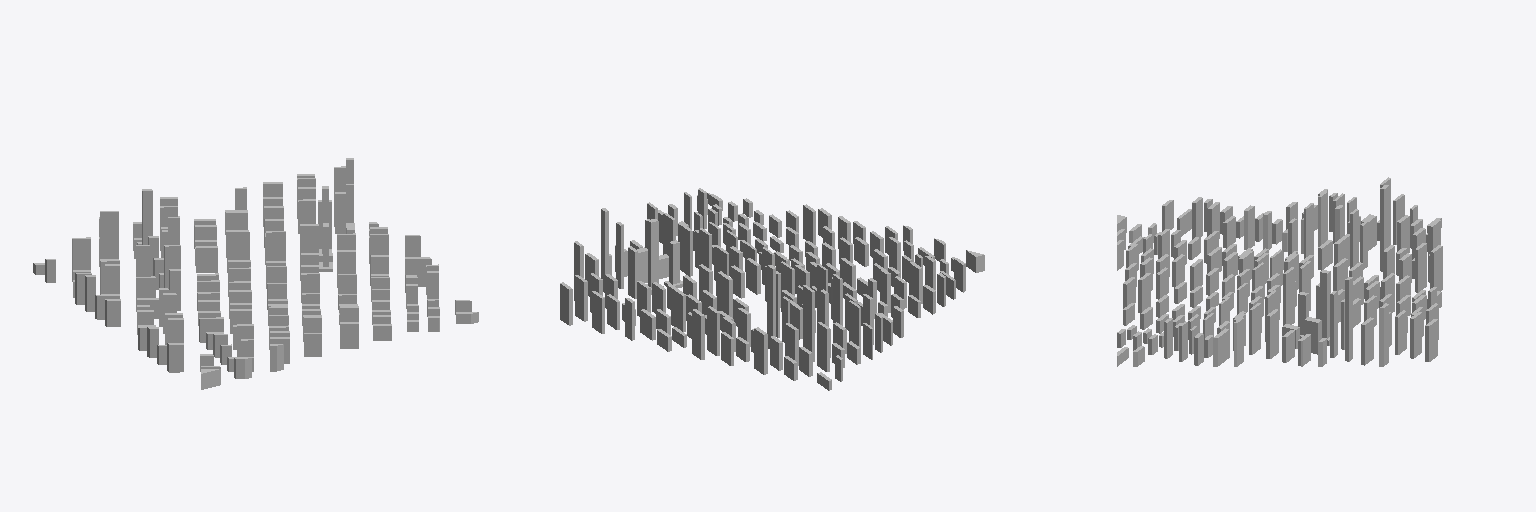
The model's file is buildings_00139.obj.
3 renders of one model, left to right at view 1: azimuth 30°, elevation 25°; view 2: azimuth 150°, elevation 25°; view 3: azimuth 270°, elevation 25°, orthographic.
Bounding box in the file's own units: 1460 × 406 × 1447.